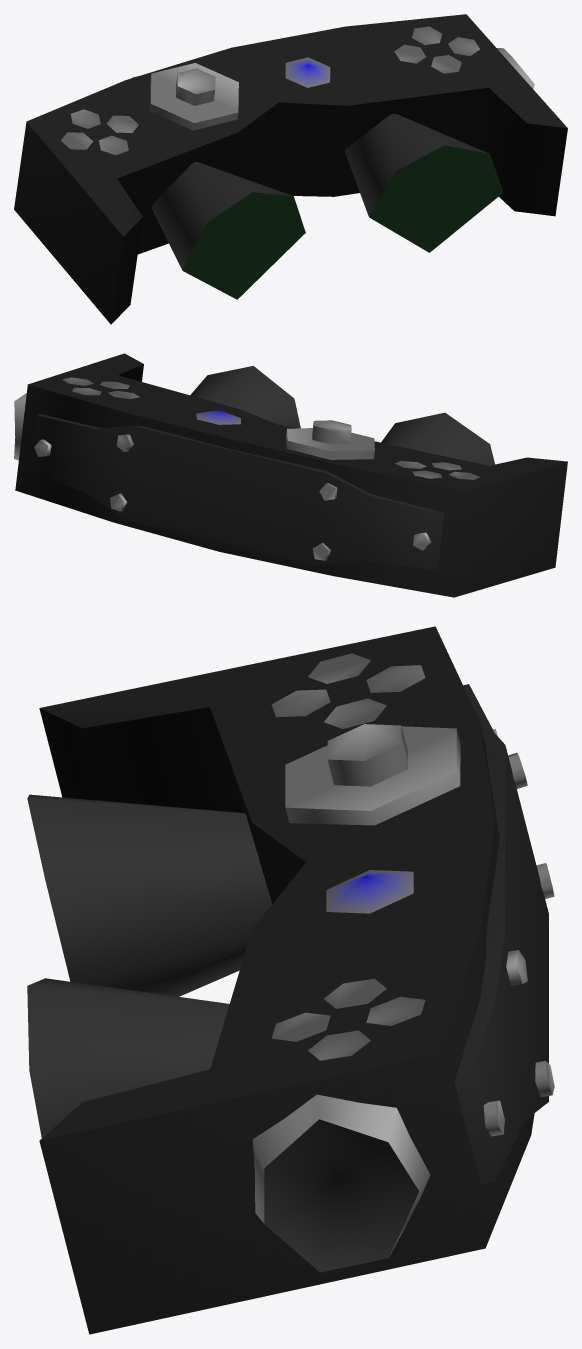
The model's file is hat_obiwan.glb.
3 renders of one model, top to bottom at view 1: azimuth 30°, elevation 25°; view 2: azimuth 150°, elevation 25°; view 3: azimuth 270°, elevation 25°, orthographic. The views are drawn at different scales.
Parts seen in each view (by area): view 1: hat_obiwan; view 2: hat_obiwan; view 3: hat_obiwan.
Boxes of the visible parts, <box> form: hat_obiwan: <box>14,14,567,324</box>; hat_obiwan: <box>14,353,567,597</box>; hat_obiwan: <box>27,626,554,1334</box>.
Size of the model in its own units: 0.3152 by 0.1062 by 0.1543.
